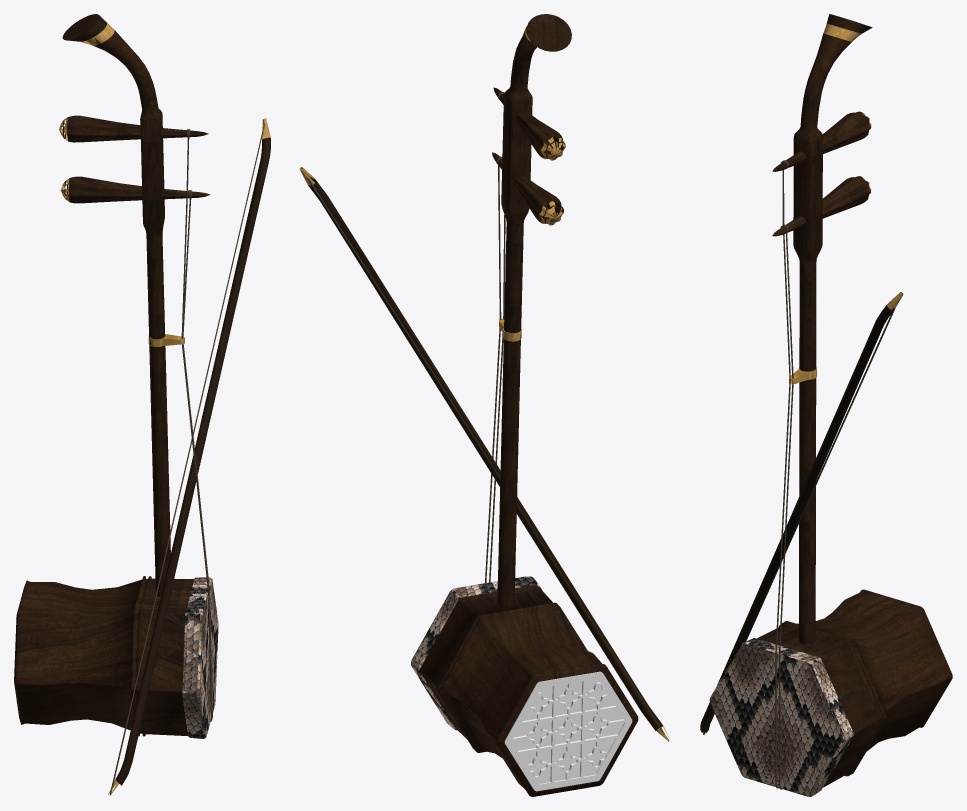
File: erhu.glb
3 renders of one model, left to right at view 1: azimuth 30°, elevation 25°; view 2: azimuth 150°, elevation 25°; view 3: azimuth 270°, elevation 25°, orthographic. The views are drawn at different scales.
Parts seen in each view (by area): view 1: Material2_12; view 2: Material2_12; view 3: Material2_12.
Part boxes in pixels (x1,y1,x2,y2): Material2_12: [14, 14, 270, 795]; Material2_12: [299, 14, 669, 796]; Material2_12: [700, 14, 952, 796].
Bounding box in the file's own units: 17.3 × 41.69 × 12.79.
Materials: 7 (5 with a texture image).
